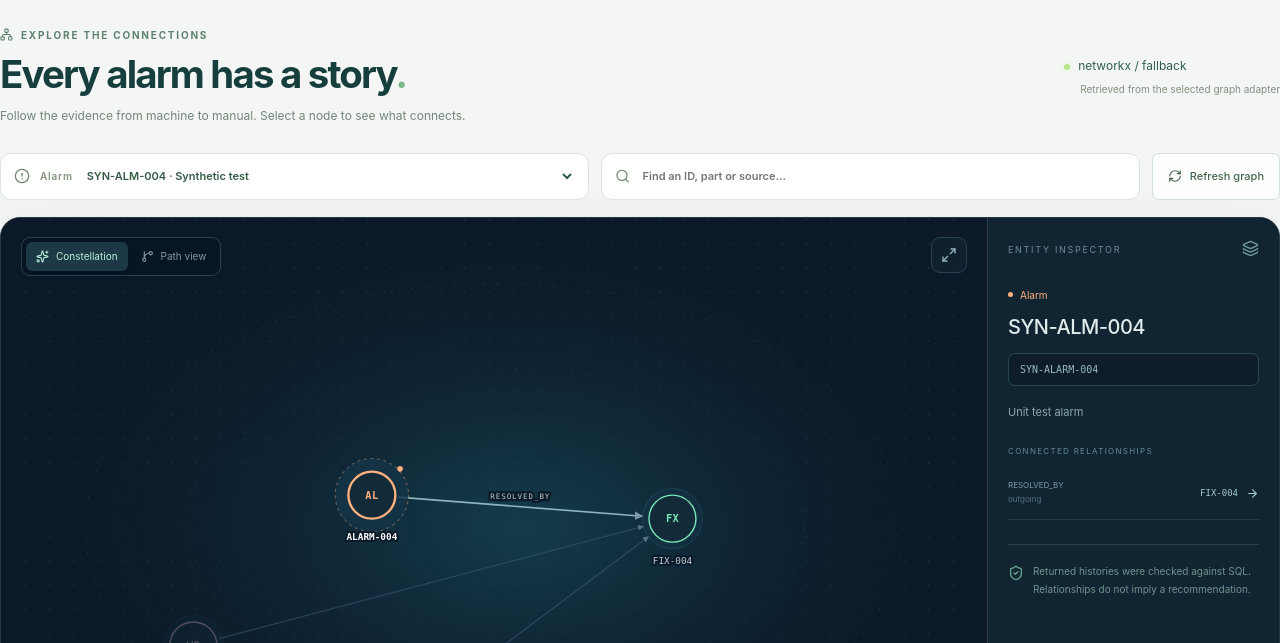
Test: filters nodes, searches and supports keyboard selection plus zoom/layout controls
The width and height of the screenshot is (1280, 643).
Press Enter in the button "Fix SYN-FIX-004", box top-left (653, 512), bottom-right (692, 565)
(page scrolled)
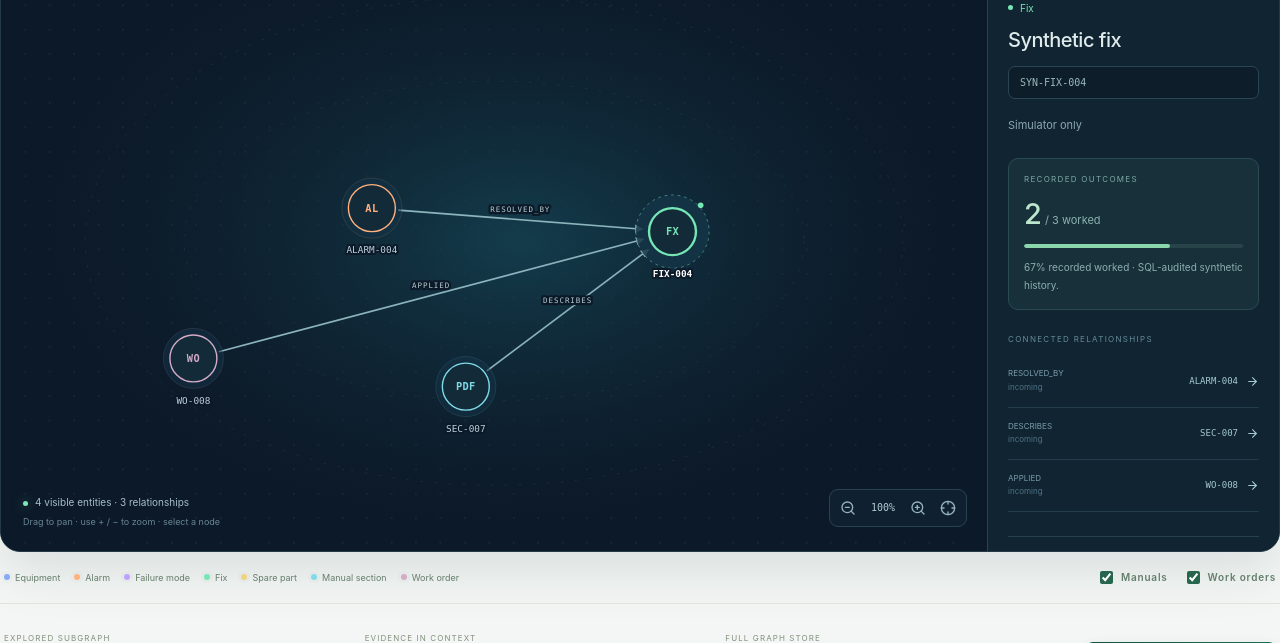
Click the checkbox labelled "Work orders".
click(1193, 577)  # box top-left (1187, 571), bottom-right (1200, 584)
(page scrolled)
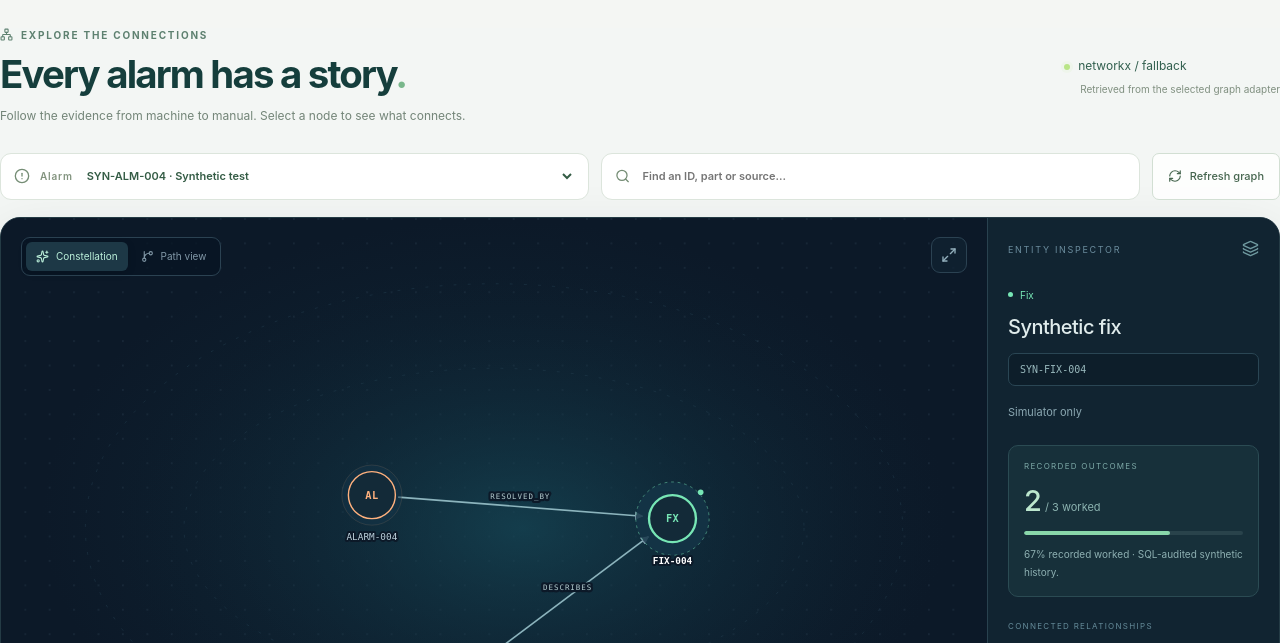
Type "SEC-007" into the field named "Search graph nodes".
click(883, 176); type("SEC-007")  # box top-left (641, 168), bottom-right (1126, 184)
(page scrolled)
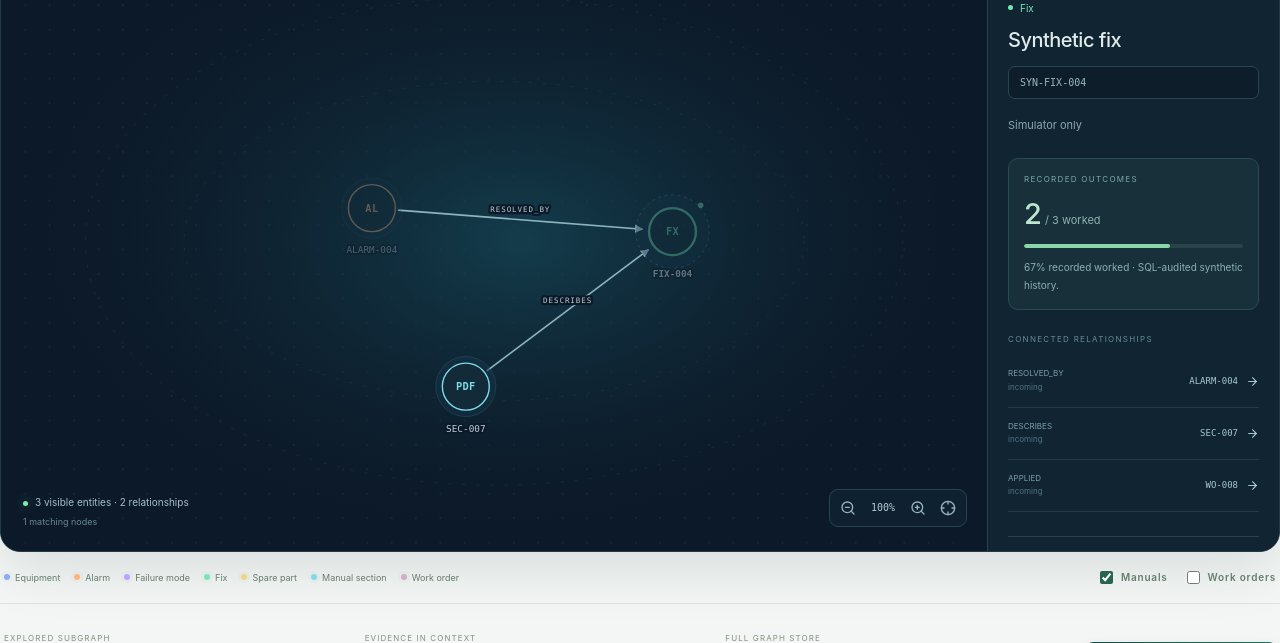
Check: the text "1 matching nodes" is shown, box top-left (23, 516), bottom-right (97, 527)
Click the button named "Zoom in graph".
click(918, 508)  # box top-left (904, 494), bottom-right (932, 522)
(page scrolled)
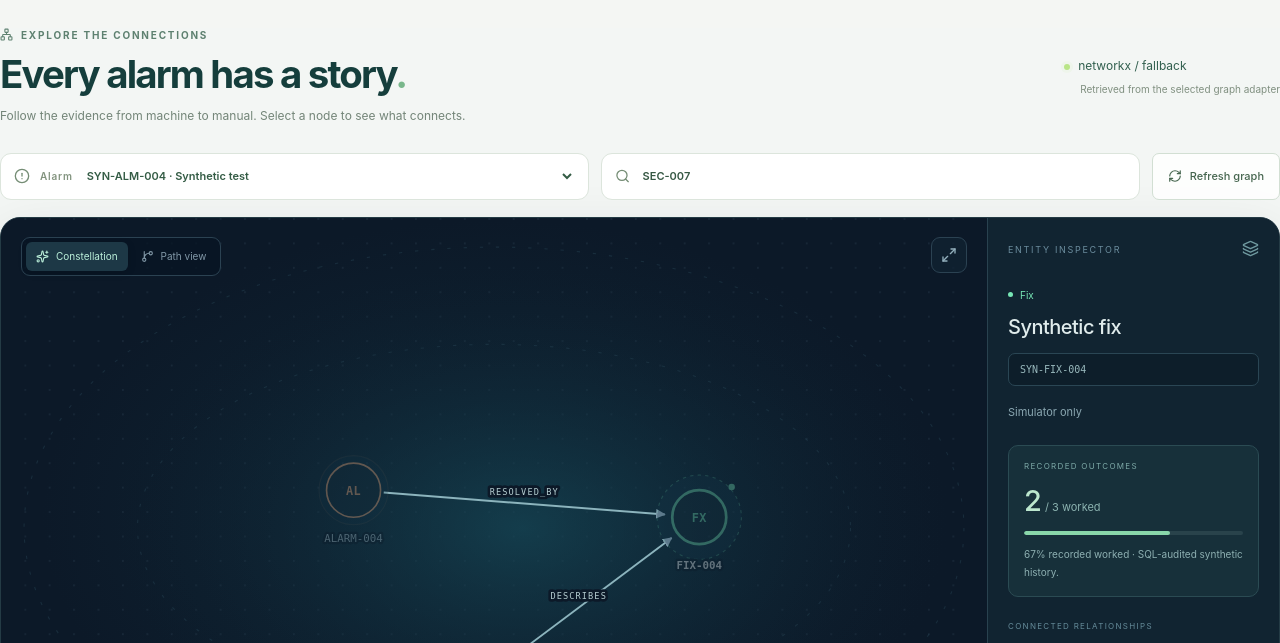
Click the button "Path view".
click(174, 256)  # box top-left (131, 242), bottom-right (216, 271)
(page scrolled)
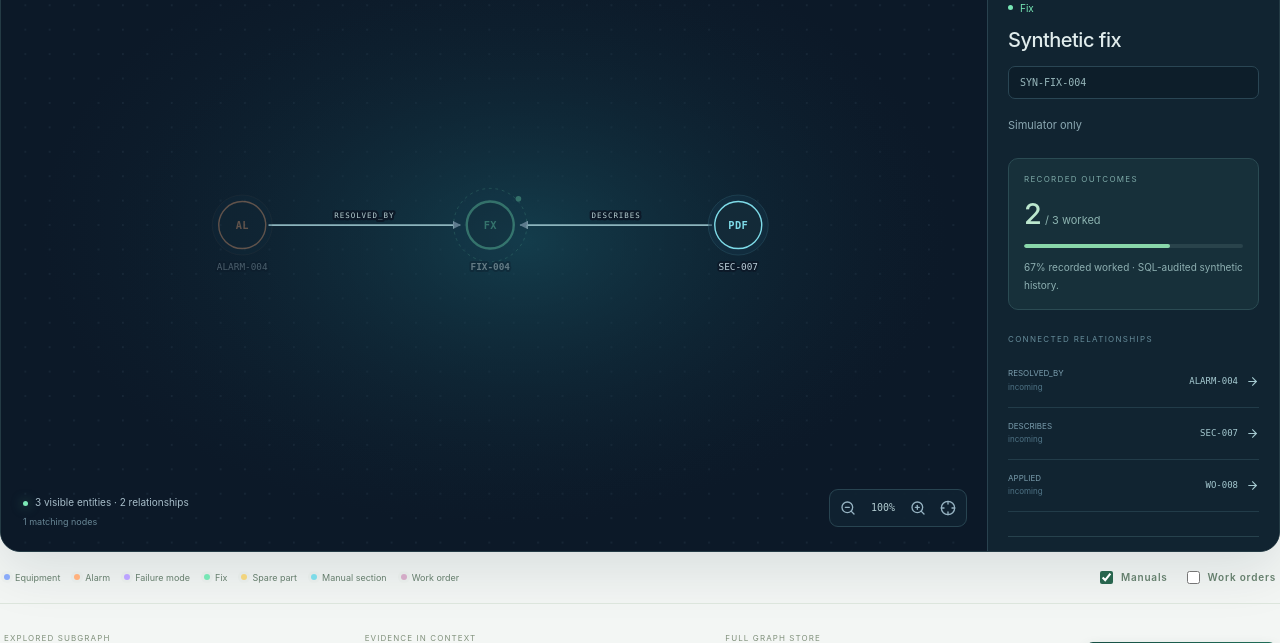
Check: the text named "Graph zoom" reads "100%", box top-left (871, 502), bottom-right (895, 513)
